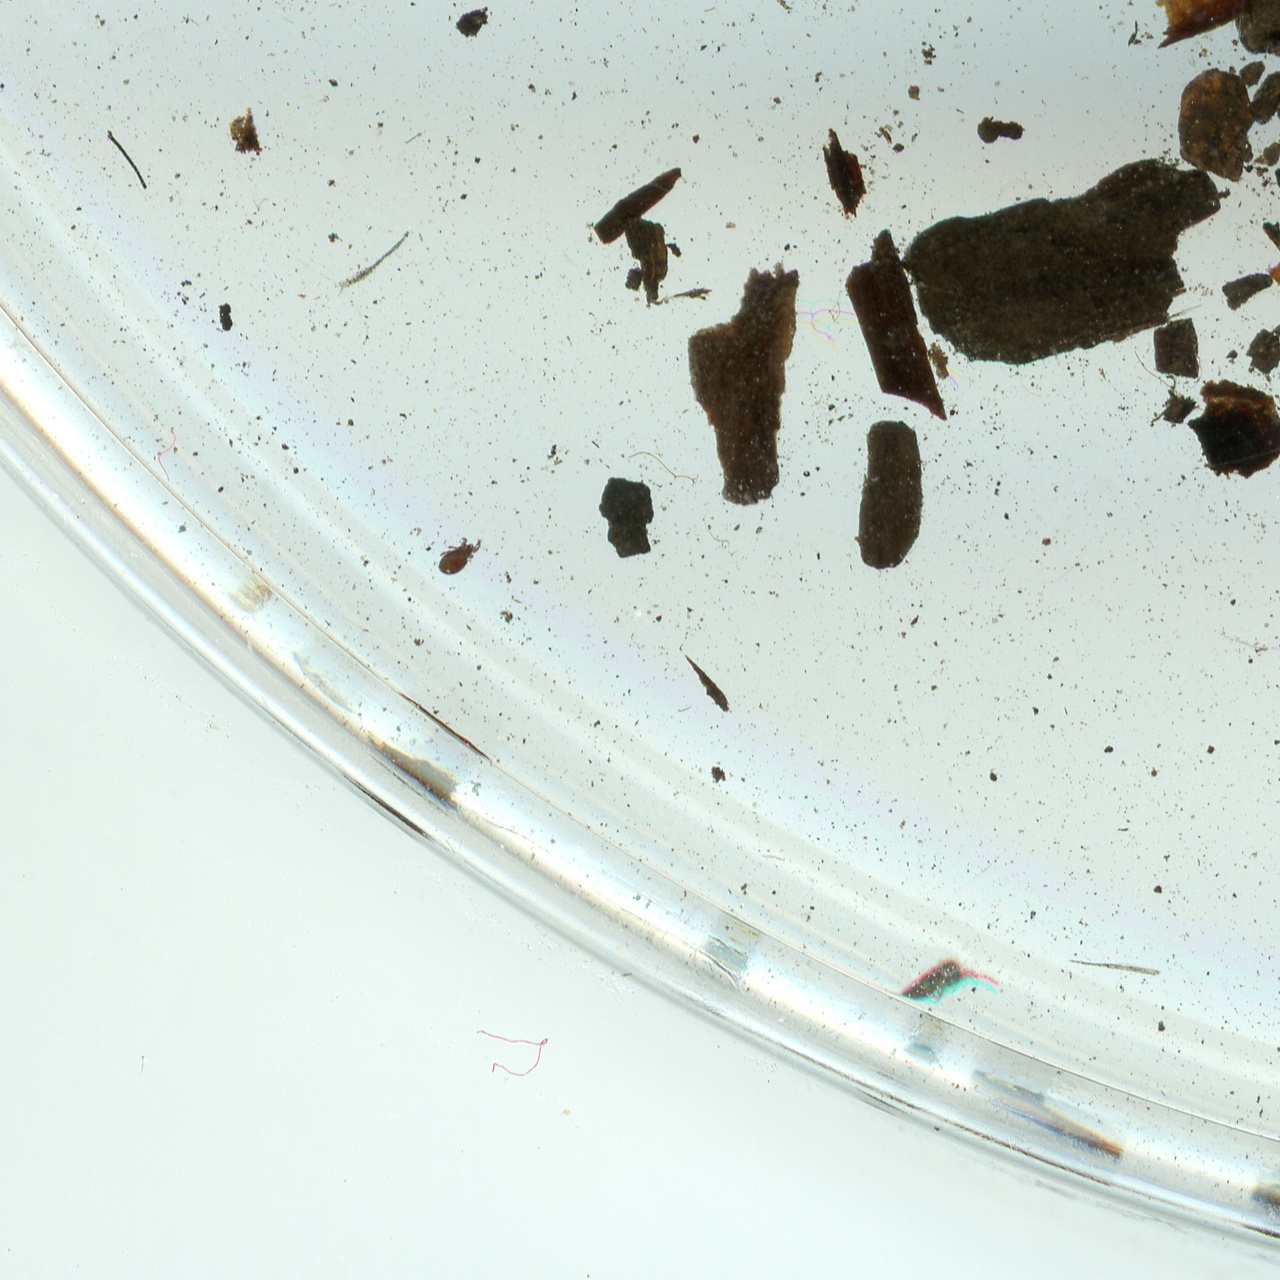arthropod: (883, 955, 1001, 1007), (436, 532, 483, 578)
